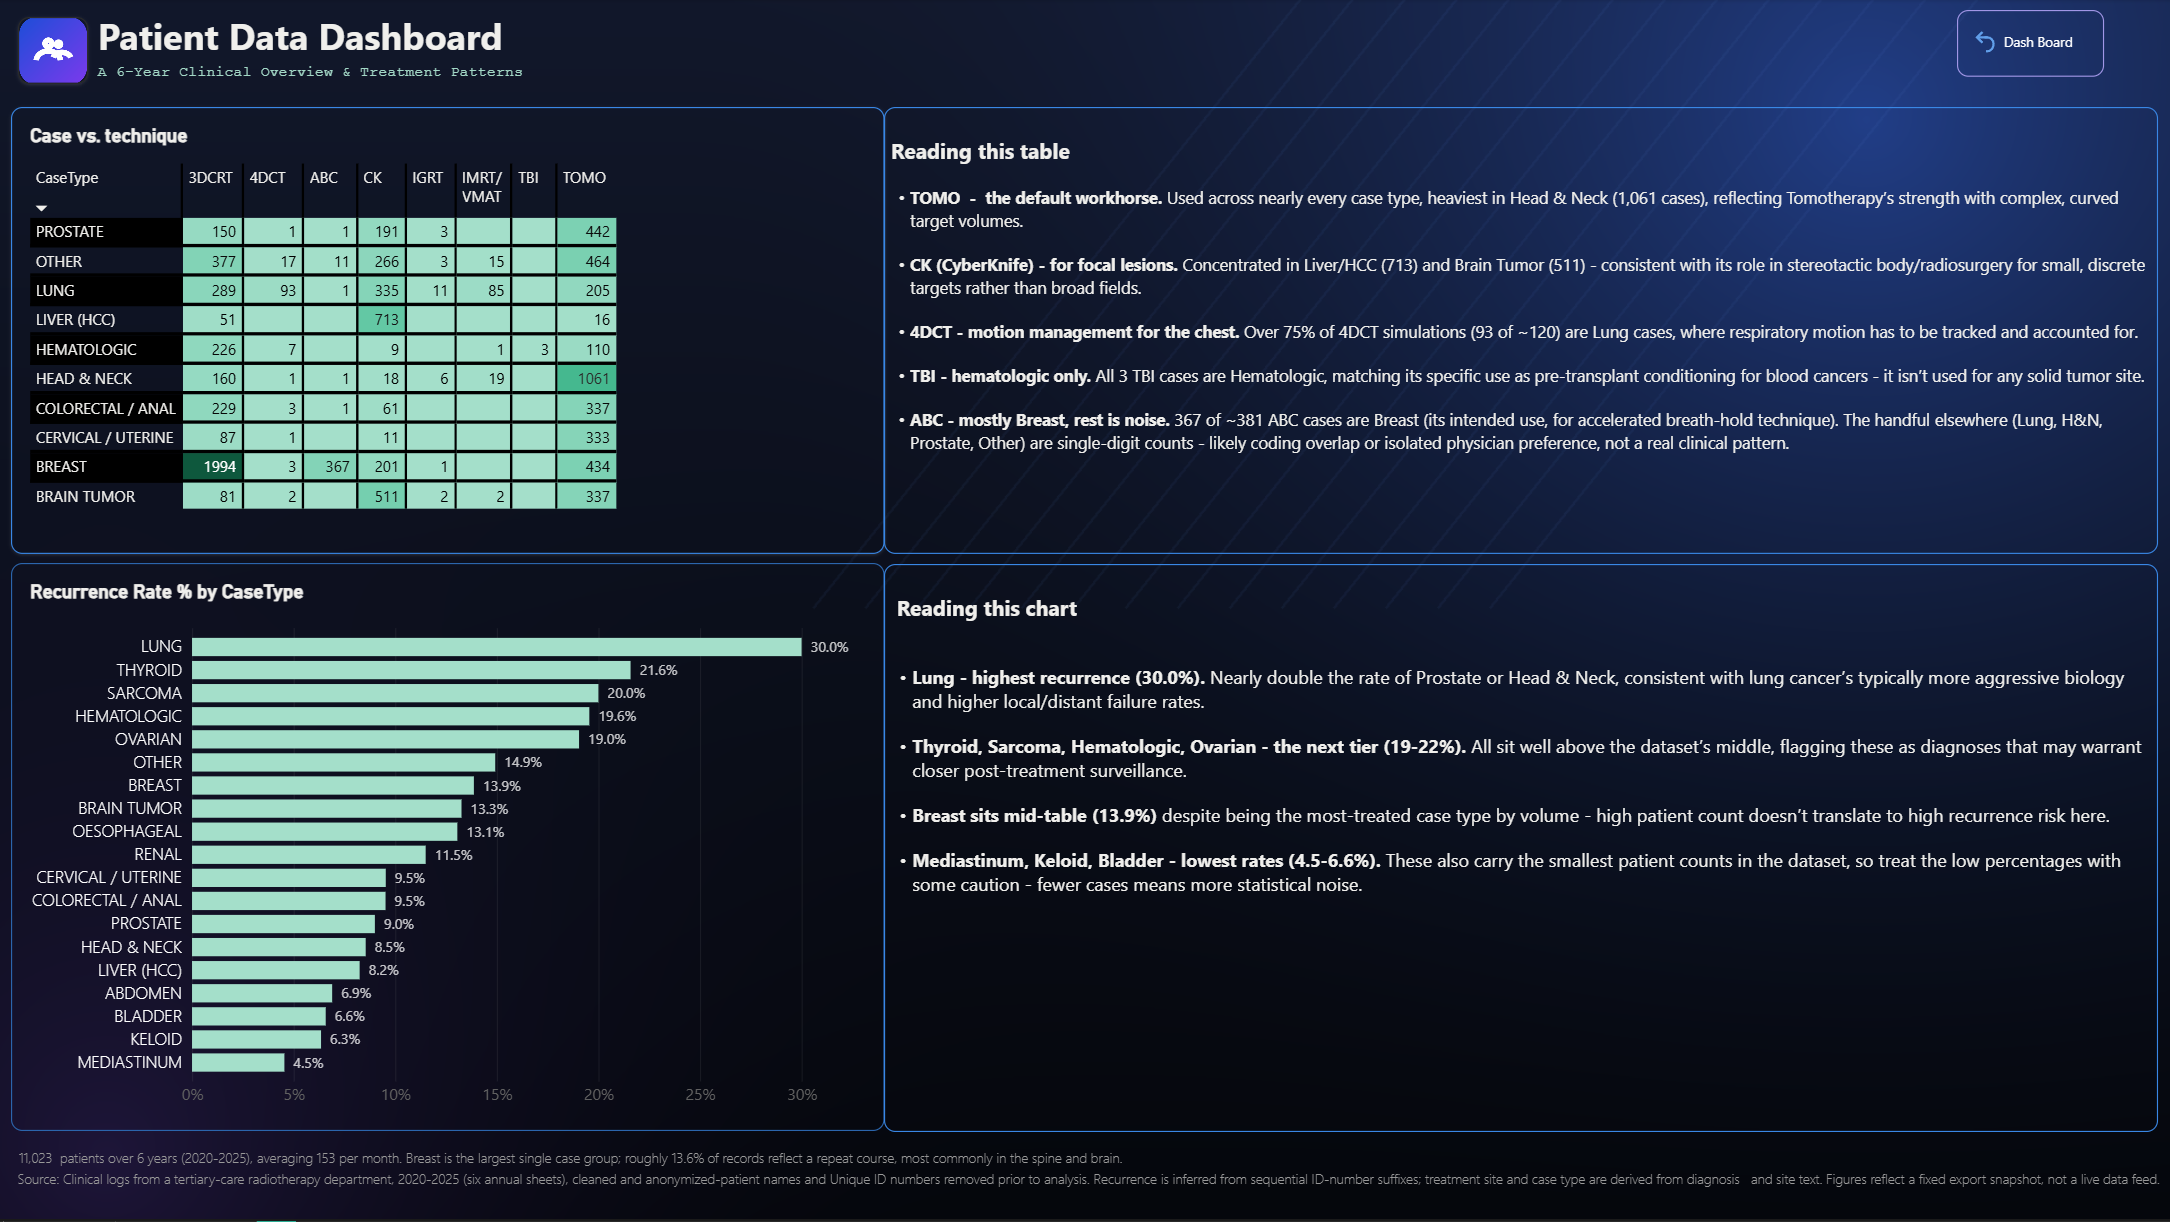

The page's visual inventory and layout, read from the dashboard file:
{"tool":"powerbi","page":{"name":"Clinical Deep-Dive","canvas":[1920,1080],"ordinal":1},"visuals":[{"type":"pivotTable","title":"Case vs. technique","fields":{"Columns":["Technique_Breakdown.technique"],"Rows":["Technique_Breakdown.CaseType"],"Values":["CountNonNull(Technique_Breakdown.CaseType)"]},"box":[11.3,95.1,772.1,395.5],"z":0,"group":"g2"},{"type":"textbox","box":[0,9.3,804,71.6],"z":1000},{"type":"image","box":[17.7,15.8,62.3,59.5],"z":2000},{"type":"actionButton","title":"Clear Filters","box":[1731.7,9.4,130.1,58.6],"z":3000},{"type":"textbox","box":[782.5,95.1,1126.2,395.5],"z":4000,"group":"g2"},{"type":"clusteredBarChart","fields":{"Category":["RT_Dashboard_Clean.CaseType"],"Y":["RT_Dashboard_Clean.Recurrence Rate %"]},"box":[11.3,498.1,771.7,501.9],"z":5000,"group":"g1"},{"type":"textbox","box":[782.4,499,1125.7,501.9],"z":6000,"group":"g1"},{"type":"textbox","box":[10.4,1014.1,1903.1,57.4],"z":6001},{"type":"group","id":"g1","title":"Group 1","box":[11.3,498.1,1896.5,502.8],"z":6002},{"type":"group","id":"g2","title":"Group 2","box":[11.3,95.1,1897.4,395.5],"z":6003}]}

Visuals, with their boxes in screenshot pixels (x1, y1, x2, y2), scaled from the page's 1920x1080 canvas onto the 2170x1222 screenshot:
"Case vs. technique" pivotTable: bbox=[13, 108, 885, 555]
textbox: bbox=[0, 11, 909, 92]
image: bbox=[20, 18, 90, 85]
"Clear Filters" actionButton: bbox=[1957, 11, 2104, 77]
textbox: bbox=[884, 108, 2157, 555]
clusteredBarChart - RT_Dashboard_Clean.CaseType x RT_Dashboard_Clean.Recurrence Rate %: bbox=[13, 564, 885, 1131]
textbox: bbox=[884, 565, 2157, 1132]
textbox: bbox=[12, 1147, 2163, 1212]
"Group 1" group: bbox=[13, 564, 2156, 1132]
"Group 2" group: bbox=[13, 108, 2157, 555]
